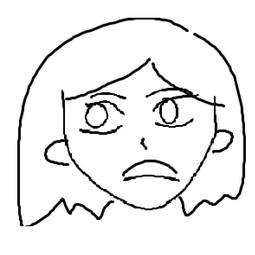ear: (37, 133, 73, 171), (207, 125, 237, 162)
eye: (71, 100, 128, 137), (151, 94, 197, 131)
eyebrow: (88, 90, 136, 101), (143, 85, 177, 100)
open_mouth: (117, 156, 182, 185)
pointy_nose: (133, 135, 153, 154)
